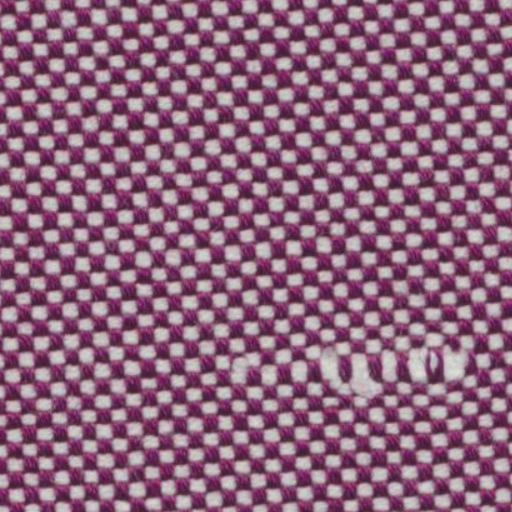DaiSha: (224, 311, 484, 404)
